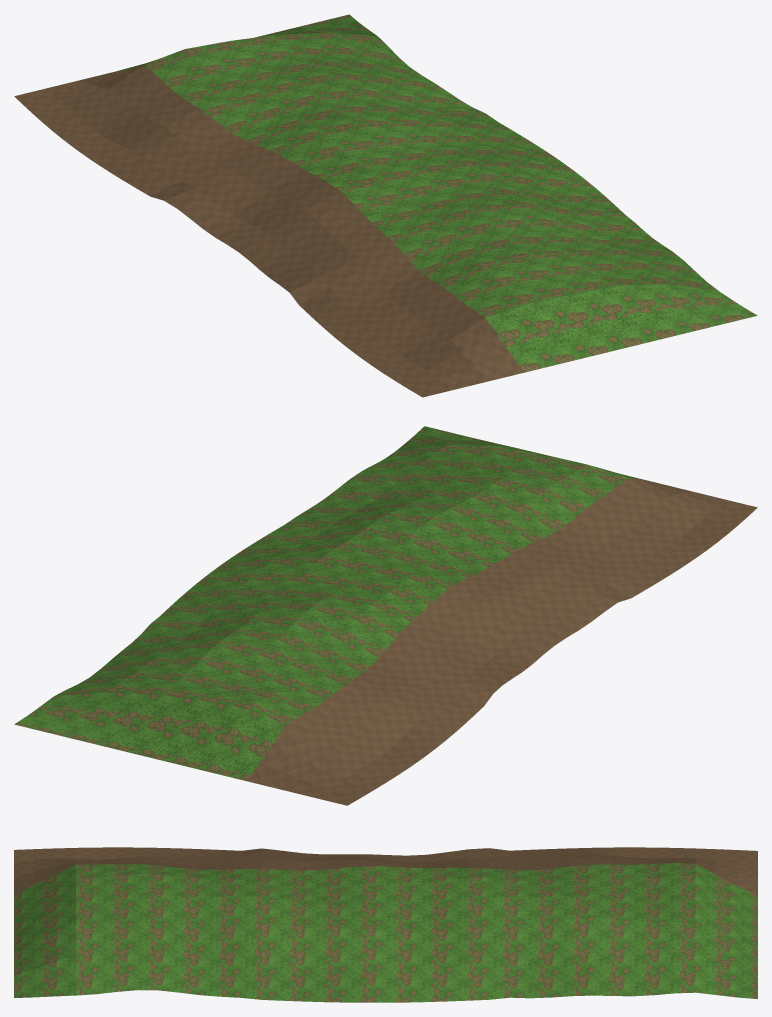
File: rv_embankment.gltf
3 renders of one model, top to bottom at view 1: azimuth 30°, elevation 25°; view 2: azimuth 150°, elevation 25°; view 3: azimuth 270°, elevation 25°, orthographic. The views are drawn at different scales.
Visible parts, largest first — view 1: RV_Embankment; view 2: RV_Embankment; view 3: RV_Embankment.
Part boxes in pixels (x1=…): RV_Embankment: x1=14, y1=14, x2=757, y2=397; RV_Embankment: x1=14, y1=426, x2=757, y2=805; RV_Embankment: x1=14, y1=847, x2=757, y2=1002.
Size of the model in its own units: 38.8 by 4.51 by 70.
3 materials, 2 textured.
